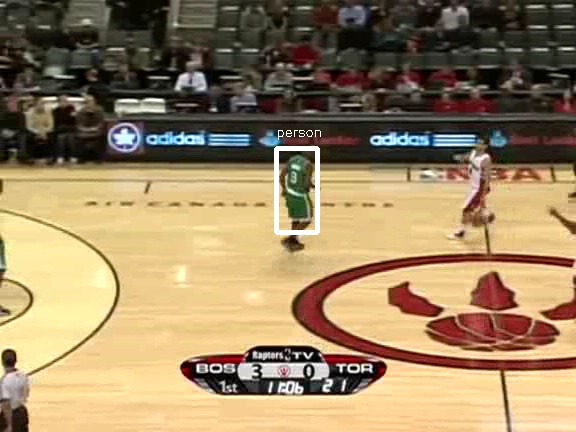person: (281, 149, 315, 230), (280, 149, 314, 230), (282, 149, 316, 230), (281, 148, 315, 229), (281, 150, 315, 231)
target_negative: (218, 211, 547, 404), (421, 34, 524, 207), (299, 320, 535, 374), (385, 78, 514, 140), (280, 247, 303, 285)
